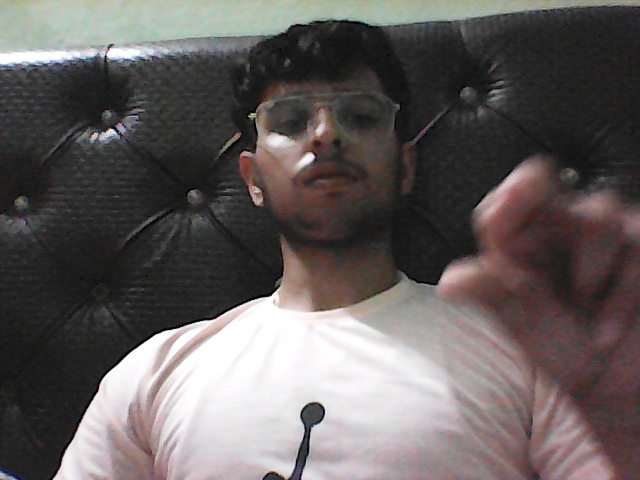no: (418, 144, 640, 395)
